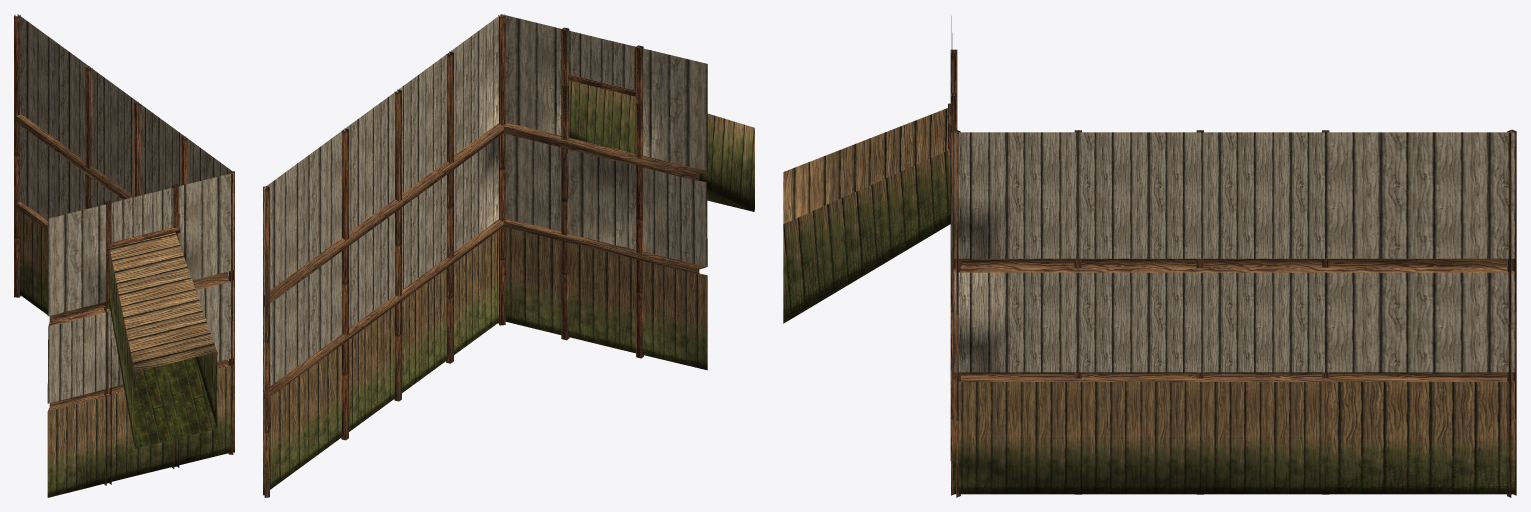
Rendered from LAKETOWN_WAREHOUSE3_PS_WH3_SIDEWALL7635__GX.fbx.
3 views of the same model, side by side, from view 1: azimuth 30°, elevation 25°; view 2: azimuth 150°, elevation 25°; view 3: azimuth 270°, elevation 25° (orthographic). The views are drawn at different scales.
Parts seen in each view (by area): view 1: LAKETOWN_WAREHOUSE3_PS_WH3_SIDEWALL7635__GX; view 2: LAKETOWN_WAREHOUSE3_PS_WH3_SIDEWALL7635__GX; view 3: LAKETOWN_WAREHOUSE3_PS_WH3_SIDEWALL7635__GX.
Part boxes in pixels (x1,y1,x2,y2): LAKETOWN_WAREHOUSE3_PS_WH3_SIDEWALL7635__GX: [14, 14, 234, 497]; LAKETOWN_WAREHOUSE3_PS_WH3_SIDEWALL7635__GX: [263, 14, 754, 497]; LAKETOWN_WAREHOUSE3_PS_WH3_SIDEWALL7635__GX: [783, 16, 1516, 497].
Bounding box in the file's own units: 91219 × 130090 × 236365.
7 materials, 7 textured.
